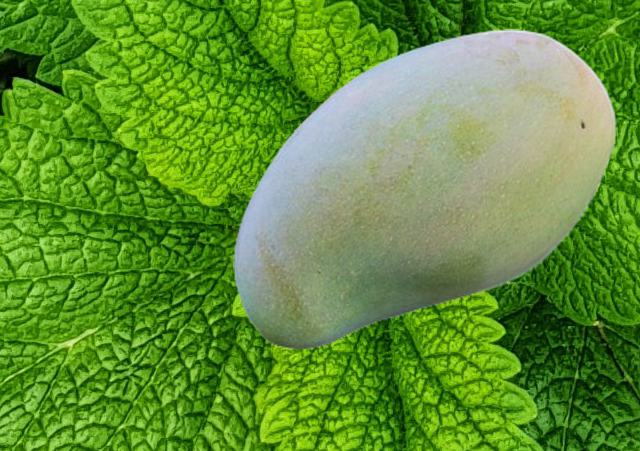green_mango: (233, 29, 616, 347)
